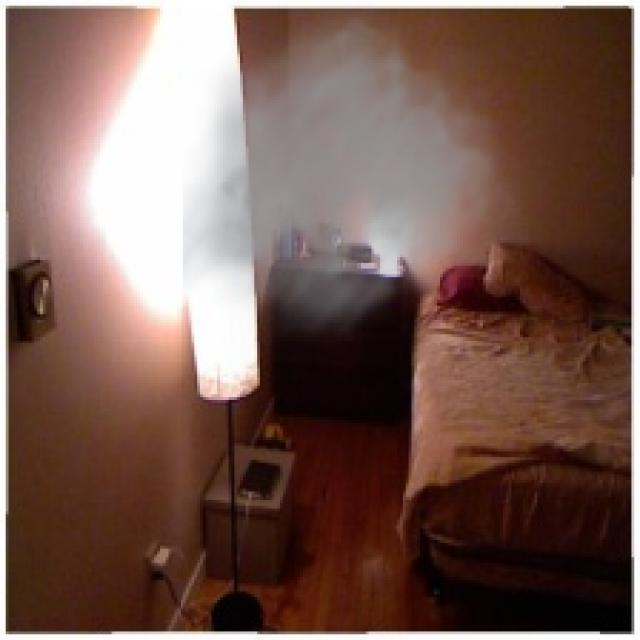smoke: (182, 0, 535, 352)
